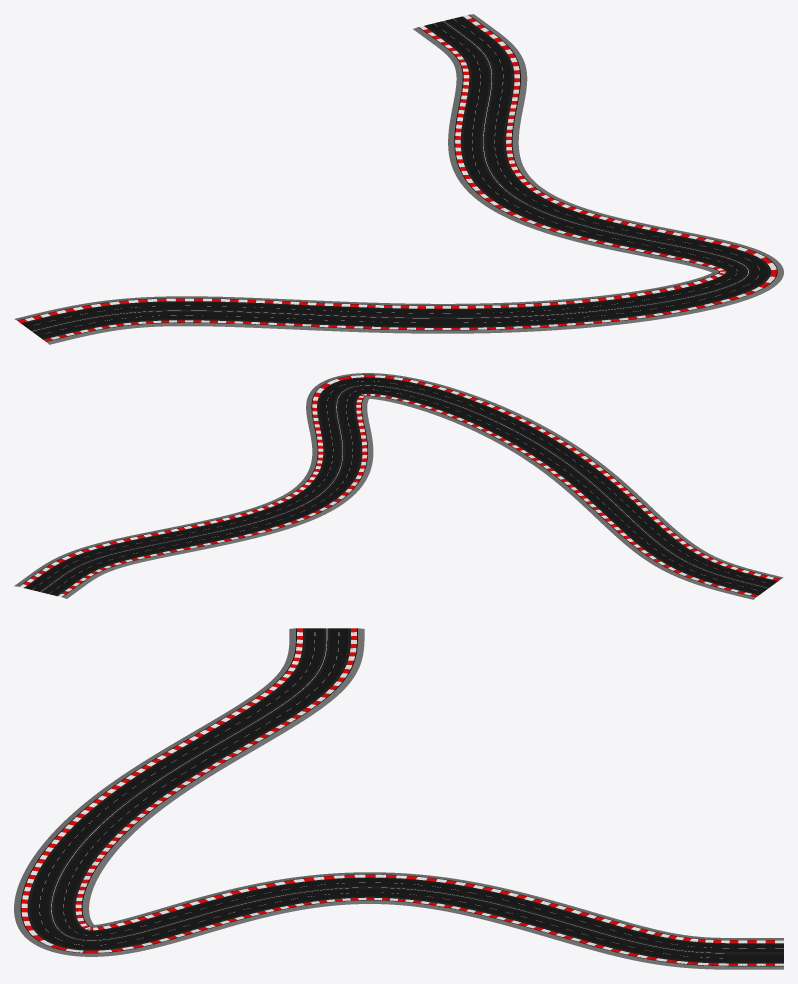
File: S0.1l2-mue.glb
3 renders of one model, top to bottom at view 1: azimuth 30°, elevation 25°; view 2: azimuth 150°, elevation 25°; view 3: azimuth 270°, elevation 25°, orthographic. The views are drawn at different scales.
Parts seen in each view (by area): view 1: Grid; view 2: Grid; view 3: Grid.
Part boxes in pixels (x1,y1,x2,y2): Grid: [14, 14, 783, 344]; Grid: [14, 373, 783, 599]; Grid: [14, 628, 783, 969].
Bounding box in the file's own units: 268 × 0.31 × 256.
